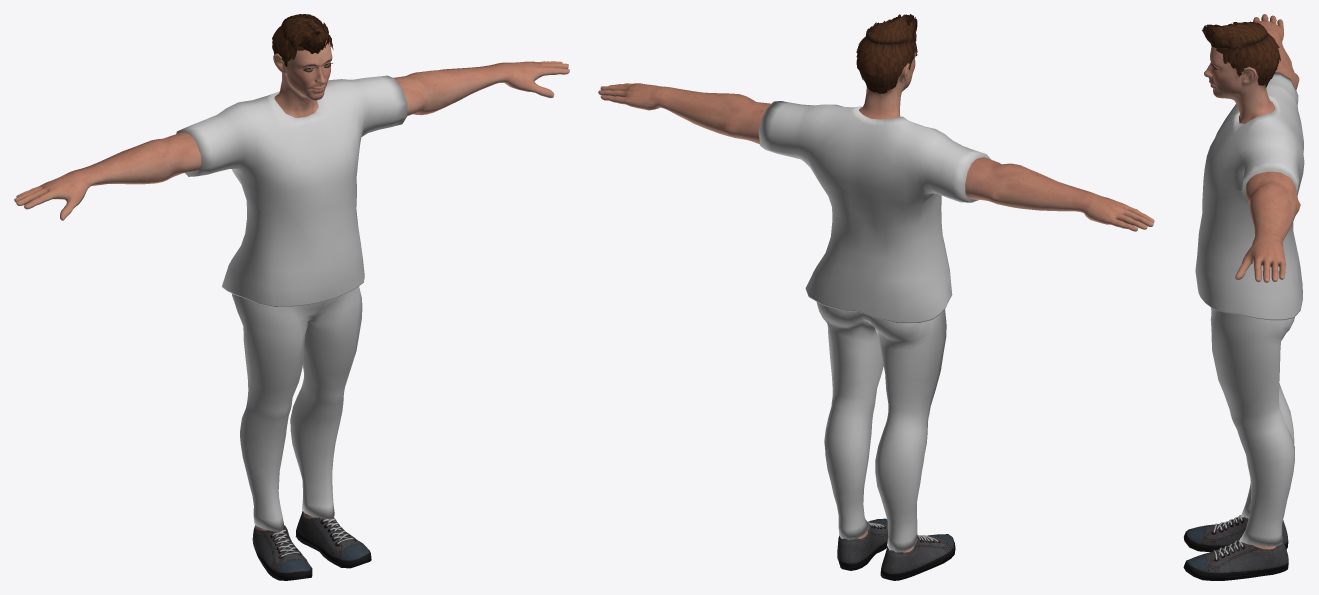
Rendered from yakisikliadam.obj.
3 views of the same model, side by side, from view 1: azimuth 30°, elevation 25°; view 2: azimuth 150°, elevation 25°; view 3: azimuth 270°, elevation 25° (orthographic).
Visible parts, largest first — view 1: Tops, Bottoms, Body, Shoes, Hair; view 2: Tops, Bottoms, Body, Shoes, Hair; view 3: Tops, Bottoms, Body, Shoes, Hair.
Part boxes in pixels (box(x1,y1,x2,y2)): Tops: box(176, 75, 407, 306); Bottoms: box(231, 286, 362, 531); Body: box(14, 19, 569, 530); Shoes: box(252, 511, 371, 580); Hair: box(272, 14, 333, 66); Tops: box(758, 101, 990, 323); Bottoms: box(816, 302, 946, 552); Body: box(598, 37, 1154, 552); Shoes: box(837, 518, 955, 580); Hair: box(856, 14, 917, 93); Tops: box(1195, 72, 1304, 320); Bottoms: box(1210, 307, 1294, 546); Body: box(1204, 14, 1300, 549); Shoes: box(1183, 515, 1288, 580); Hair: box(1202, 21, 1280, 86).
Size of the model in its own units: 194 by 180 by 36.93.
